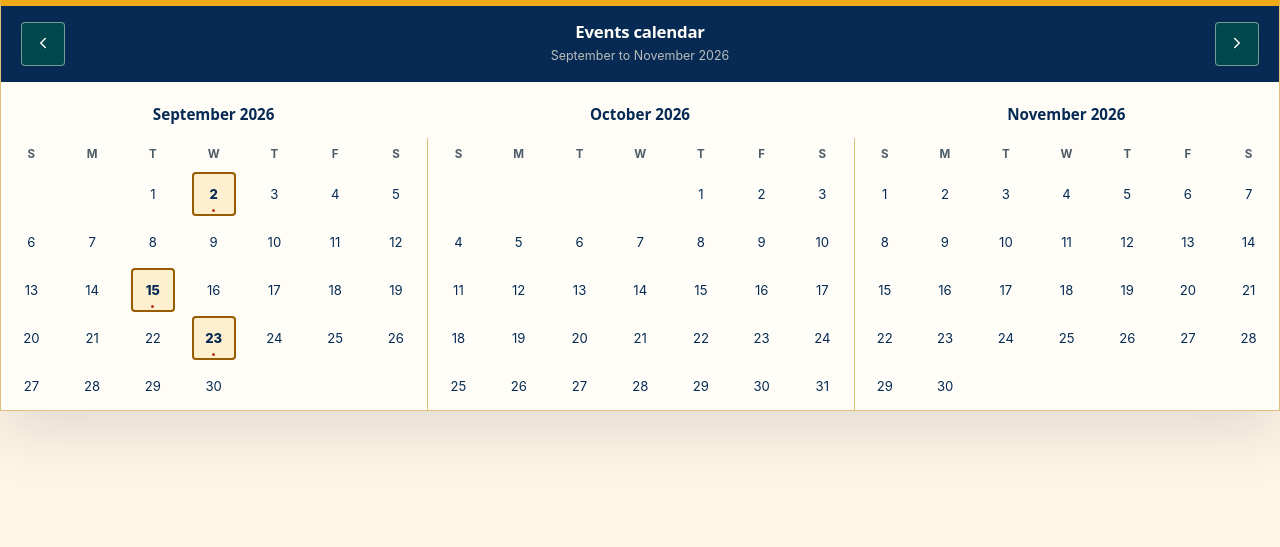
Test: public events experience › places an override on its edited date with occurrence-specific details
The width and height of the screenshot is (1280, 547).
What coordinates should you click on to do the following:
click the button named "September 15, 2026, 1 event"
I would click on:
 (153, 290)
Its box is [131,268,175,312].
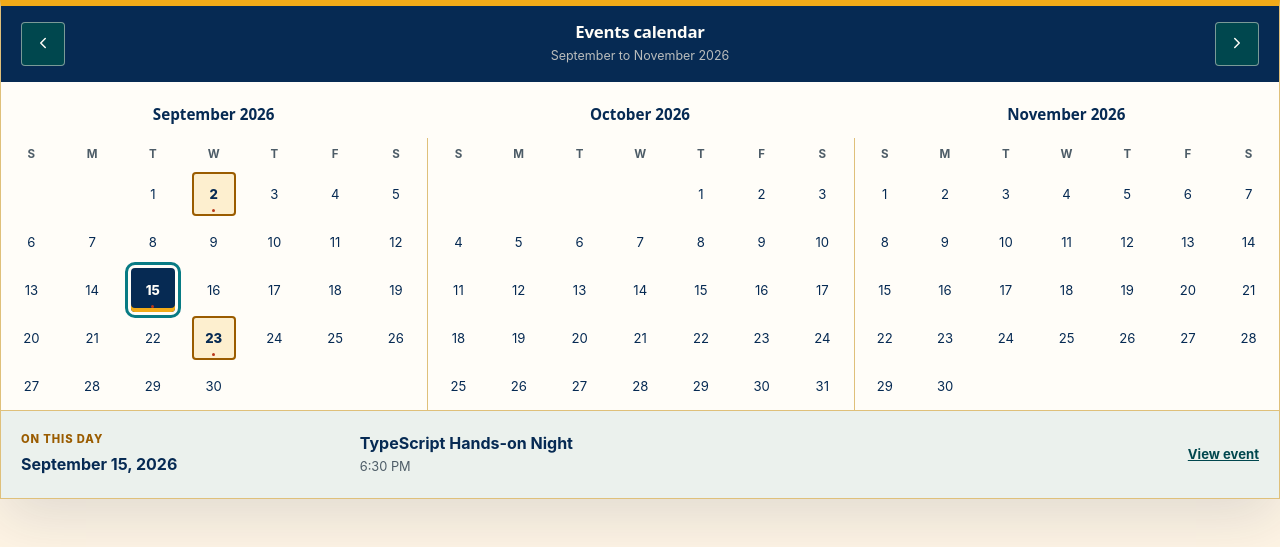
expect the text "TypeScript Hands-on Night" is shown: met, box [360,431,573,457]
expect the text "6:30 PM" is shown: met, box [360,459,411,474]
